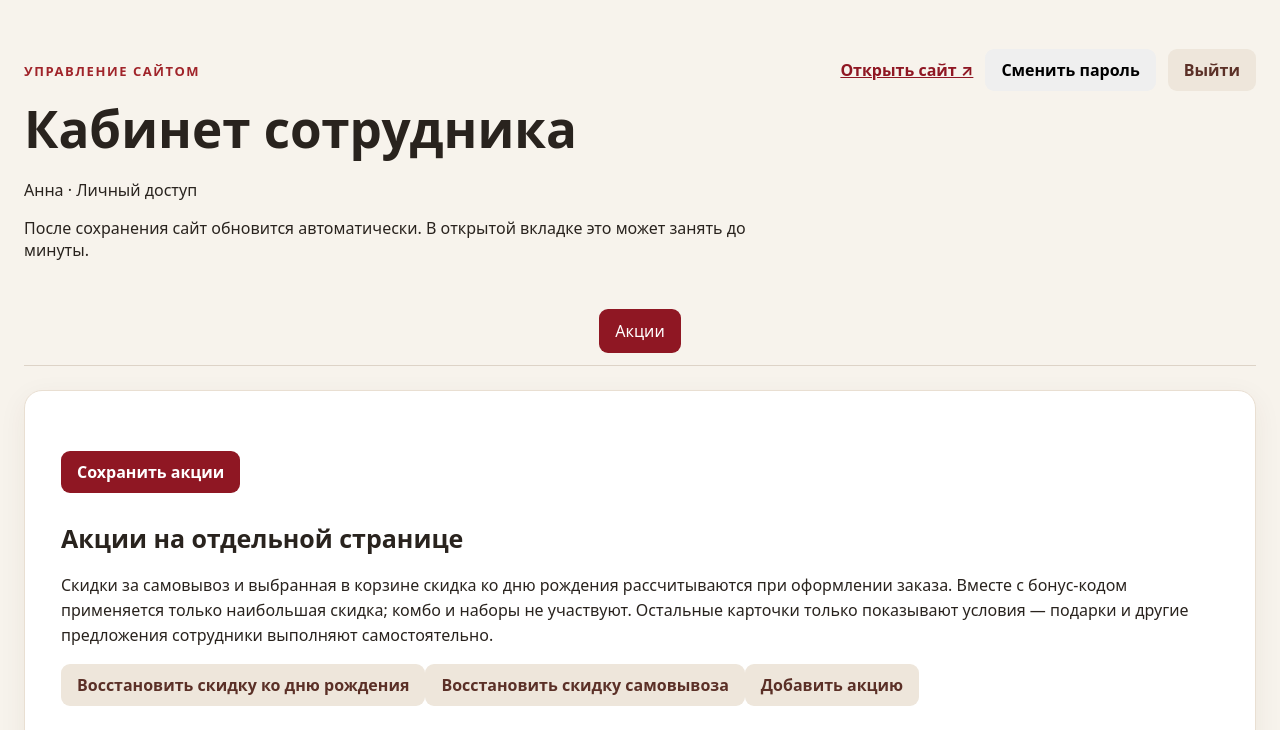
it: restricted dashboard and save payloads preserve the allowed editor and do not send default fields from other sections
This screenshot has width=1280, height=730.
Click the button "Добавить акцию".
click(832, 685)  # box [745, 664, 919, 706]
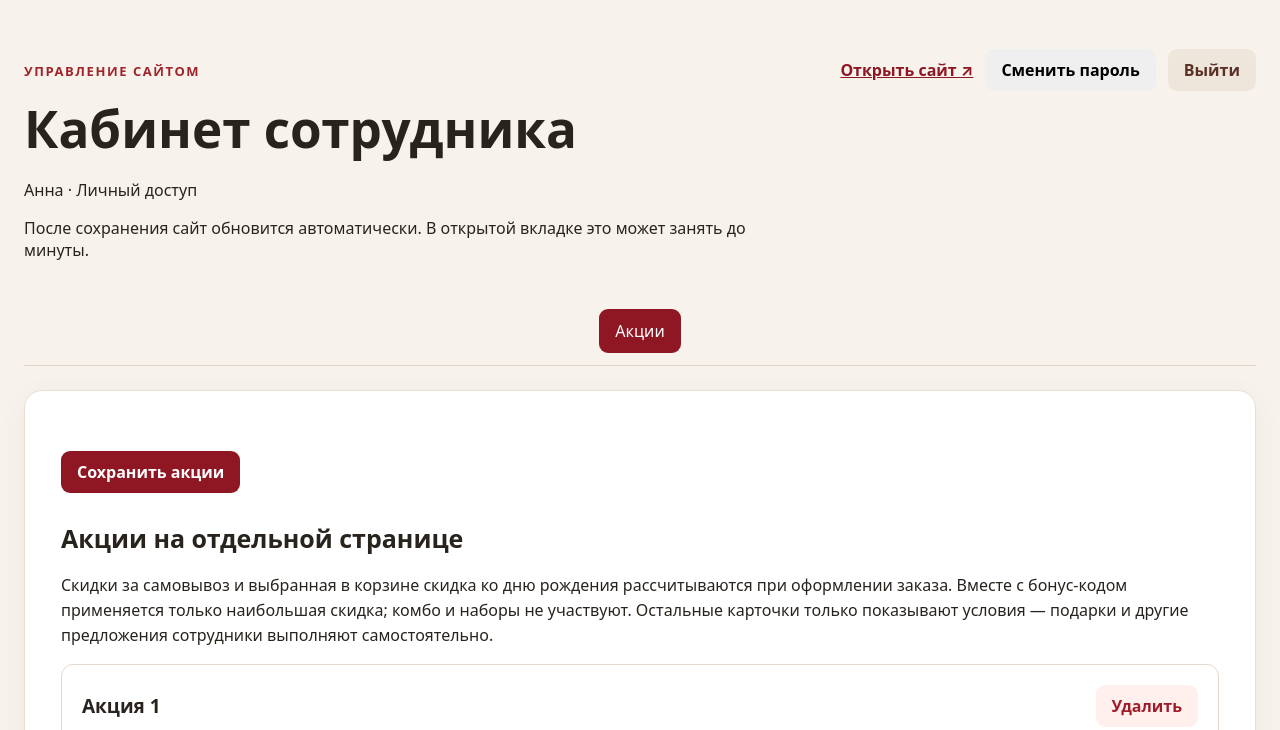
Click the button "Сохранить акции".
click(151, 472)  # box [61, 451, 240, 493]
(page scrolled)
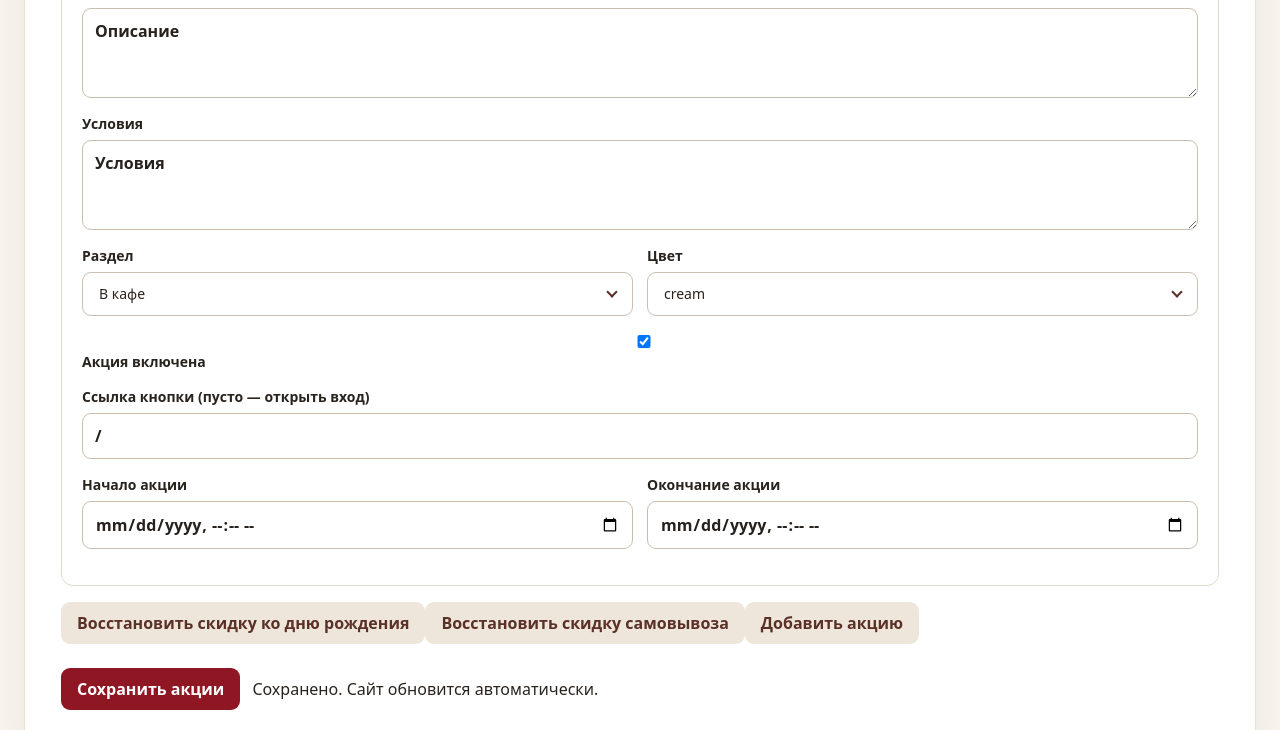
Expected: the button "Добавить акцию" is shown, [745, 602, 919, 644]
Expected: the text "Сохранено. Сайт обновится автоматически." is shown 2 times
